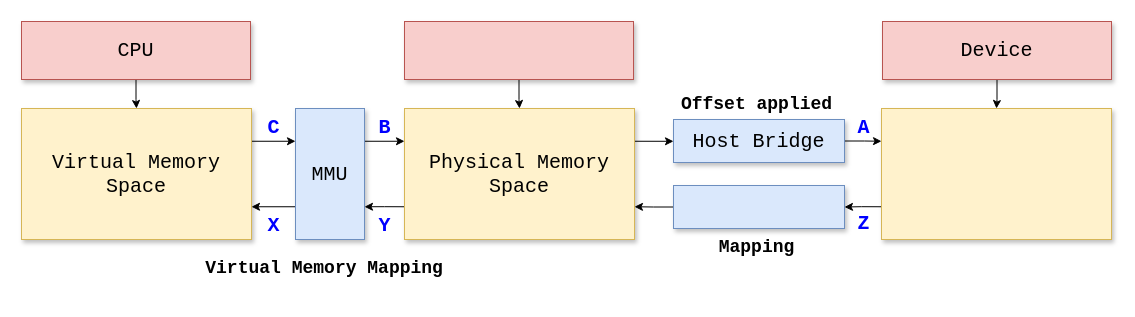
Image size: 1135x317. Some labels were removed from this diagram. Each missing label, with the centre of its shape:
"Bus Address Space" goes at [997,175].
"IOMMU" goes at [759,208].
"Memory" goes at [520,51].
